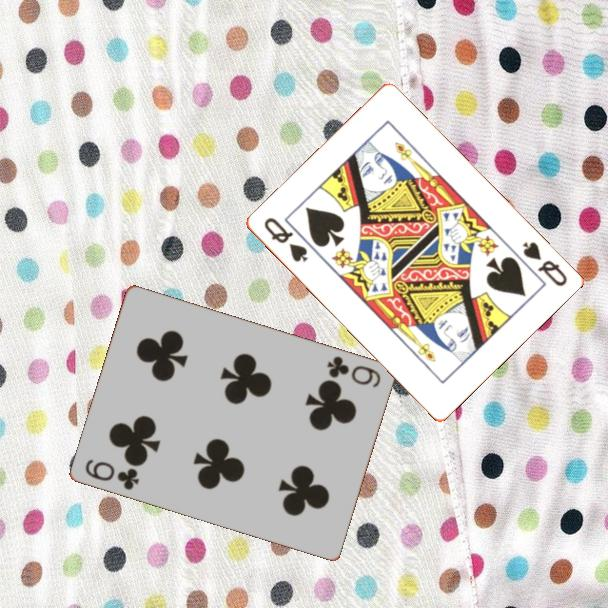c06: (324, 352, 384, 390), (82, 456, 143, 493)
s12: (518, 238, 569, 289), (260, 214, 310, 265)
